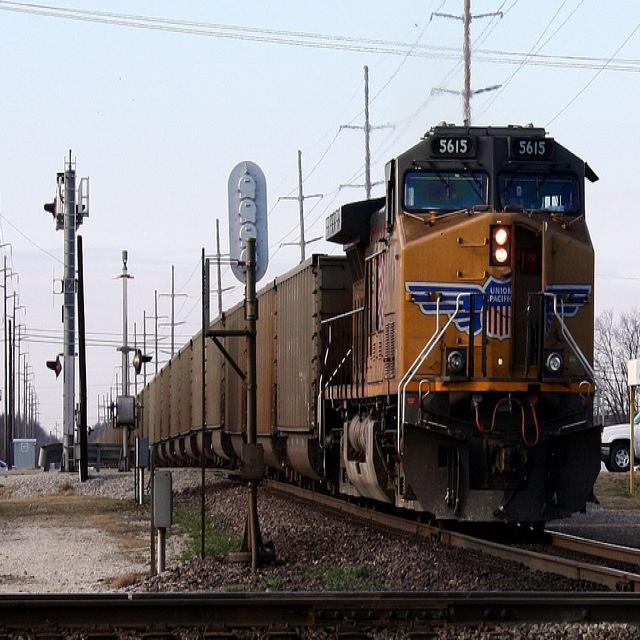car: (600, 408, 639, 469)
pole: (236, 236, 273, 556), (58, 166, 78, 472)
